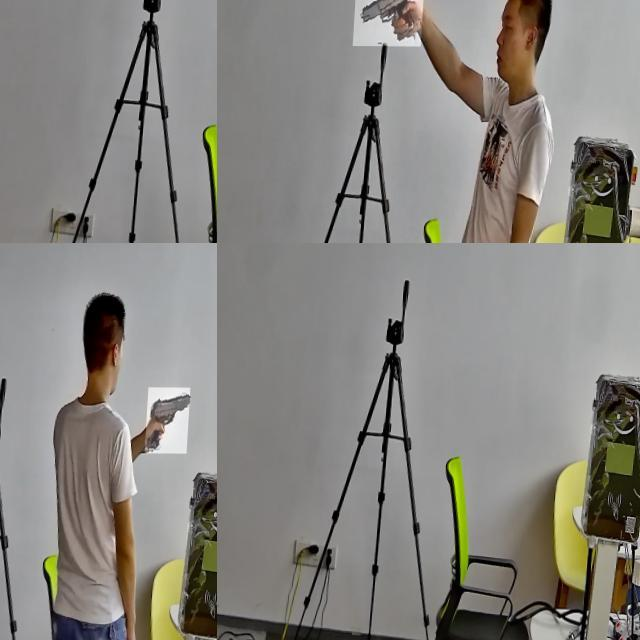gun-knife-thesis - v11 Yolov5 augmented: (355, 0, 426, 45), (148, 387, 194, 452), (217, 243, 243, 290), (0, 0, 18, 36)
